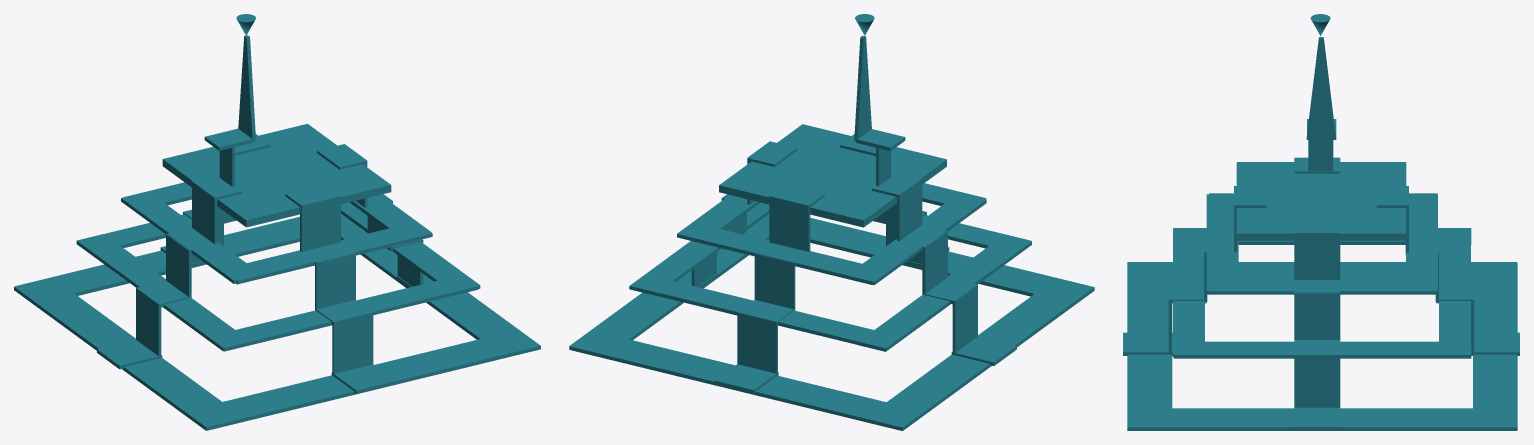
Rendered from SM_Fountain3.fbx.
3 views of the same model, side by side, from view 1: azimuth 30°, elevation 25°; view 2: azimuth 150°, elevation 25°; view 3: azimuth 270°, elevation 25° (orthographic).
Visible parts, largest first — view 1: polySurface3464; view 2: polySurface3464; view 3: polySurface3464.
Boxes of the visible parts, x1,y1,x2,y2 form: polySurface3464: (14,14,540,430); polySurface3464: (569,14,1094,430); polySurface3464: (1123,14,1519,430).
Size of the model in its own units: 2288 by 1979 by 2265.
